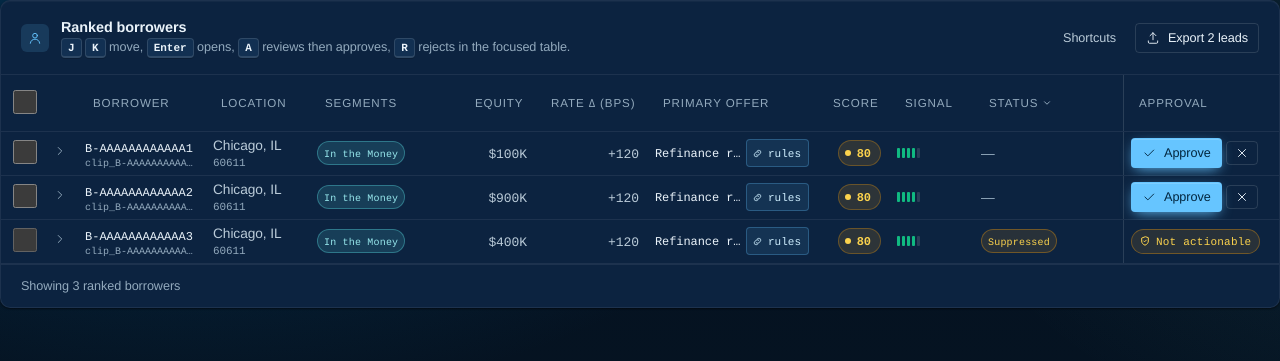
Test: LeadTable audited export › refuses to download when the receipt is refused, and says so
Click the button with test id "lead-export". click: (1197,38)
box: [1135, 23, 1259, 53]
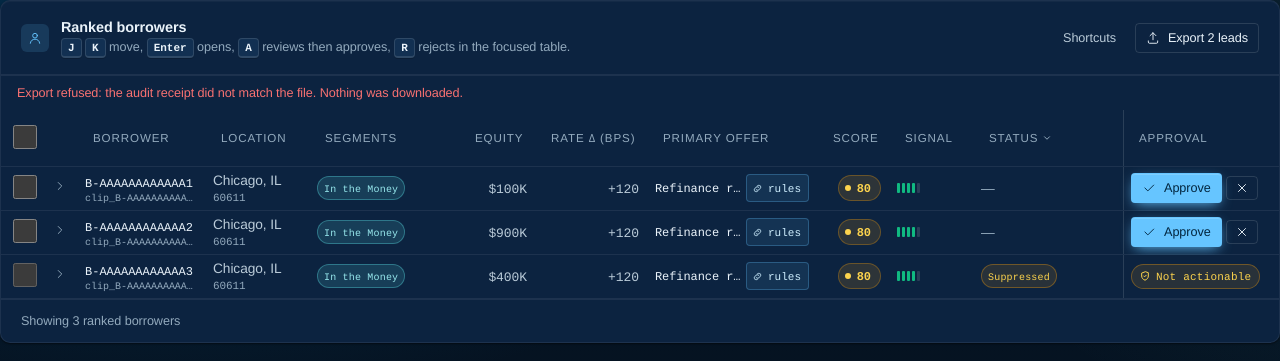
Now the message with test id "lead-export-error" is shown, box [1, 75, 1279, 110]
Now the message with test id "lead-export-error" shows "Export refused: the audit receipt did not match the file. Nothing was downloaded.", box [17, 85, 463, 101]
